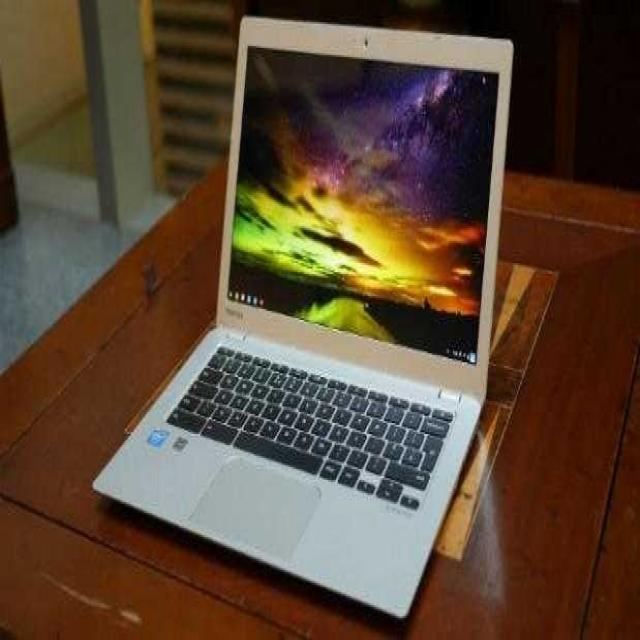laptop: (89, 14, 541, 616)
